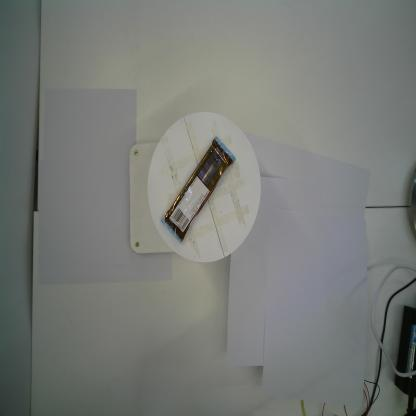Chocolate: (160, 135, 236, 245)
